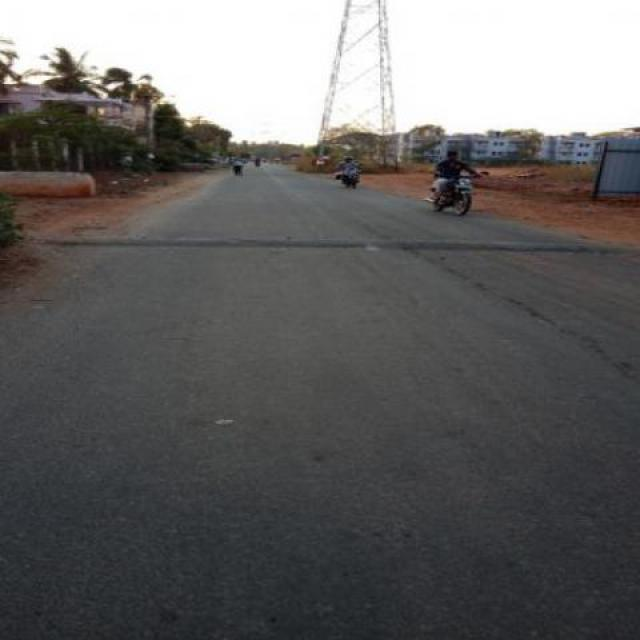Unmarked Bump: (34, 233, 638, 254)
